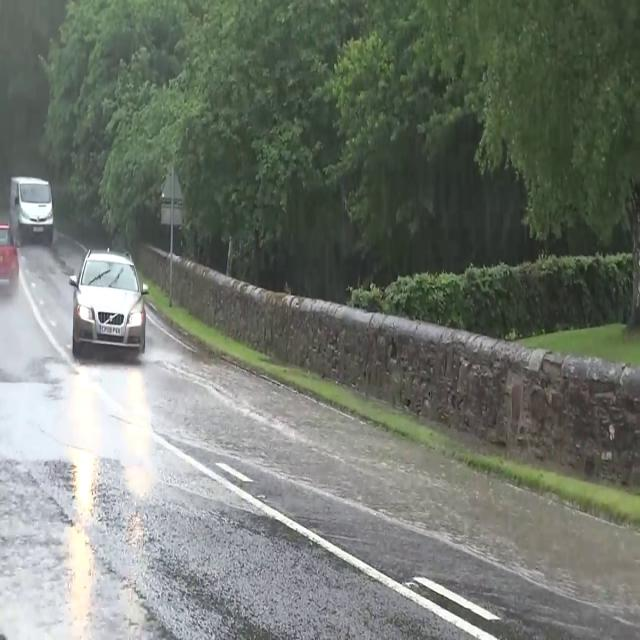license-plate-annotation: (98, 322, 126, 339)
